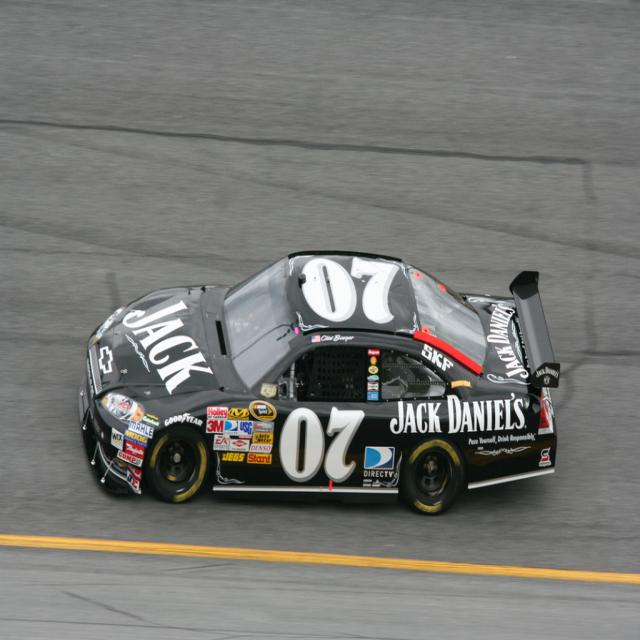car: (77, 245, 566, 522)
